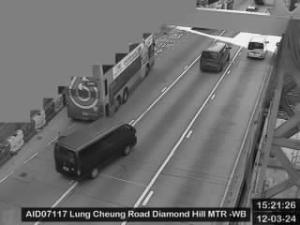bus: (65, 34, 155, 120)
vehicle: (53, 119, 137, 181), (200, 42, 230, 72), (246, 36, 270, 60)
